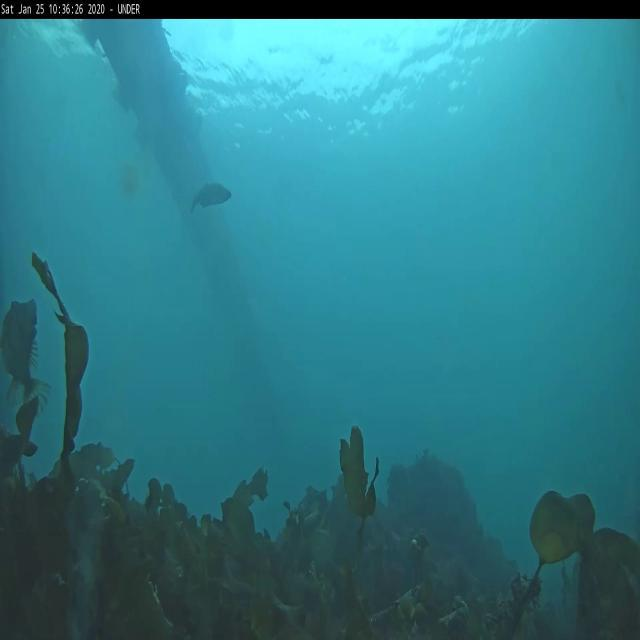fish: (194, 184, 234, 214)
